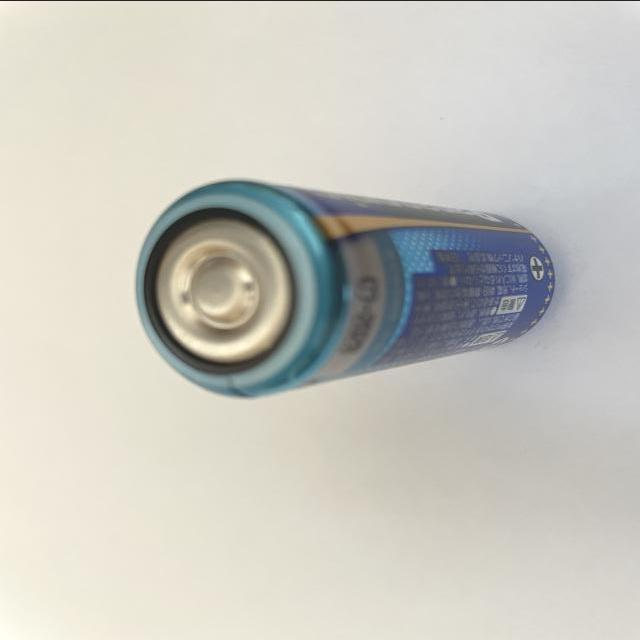AA: (132, 178, 562, 402)
